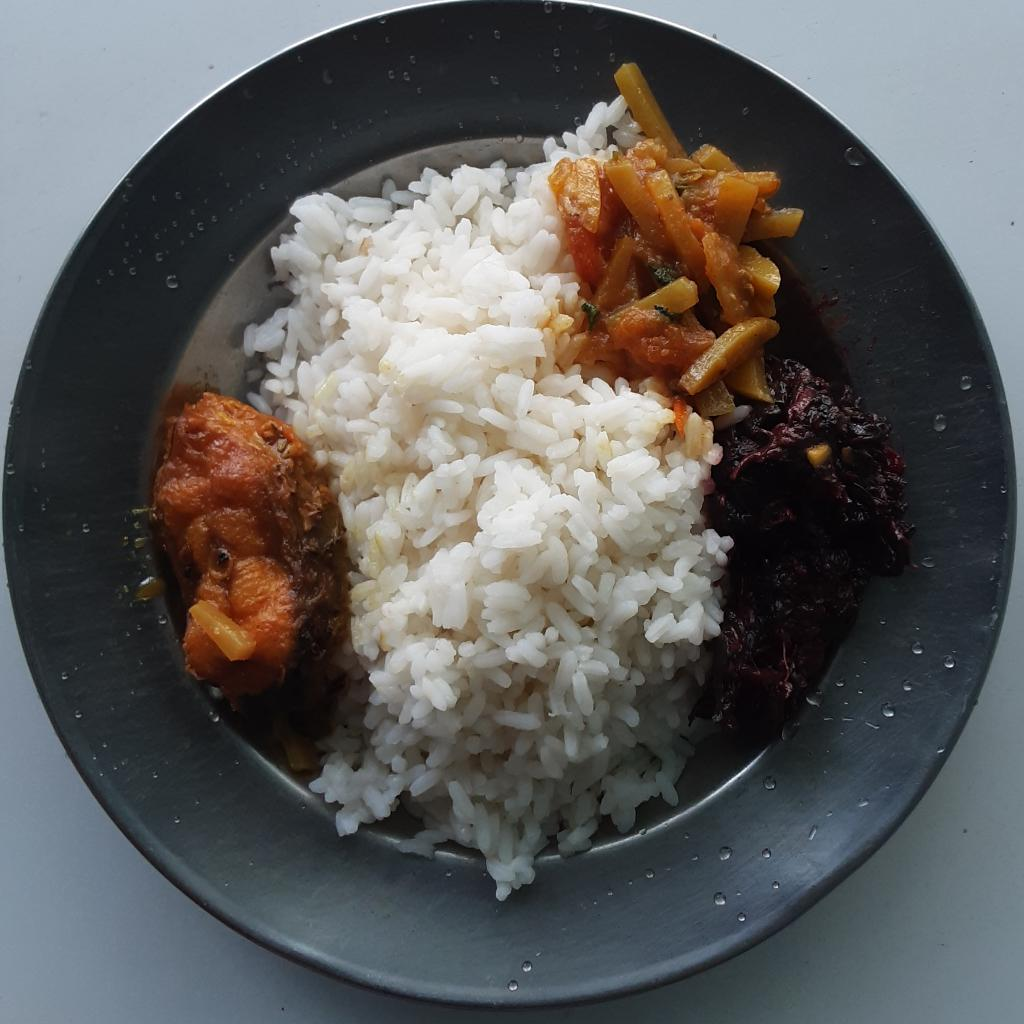fish: (154, 385, 353, 719)
lal-shak: (706, 352, 912, 760)
potato: (552, 48, 807, 428)
rice: (243, 94, 732, 900)
